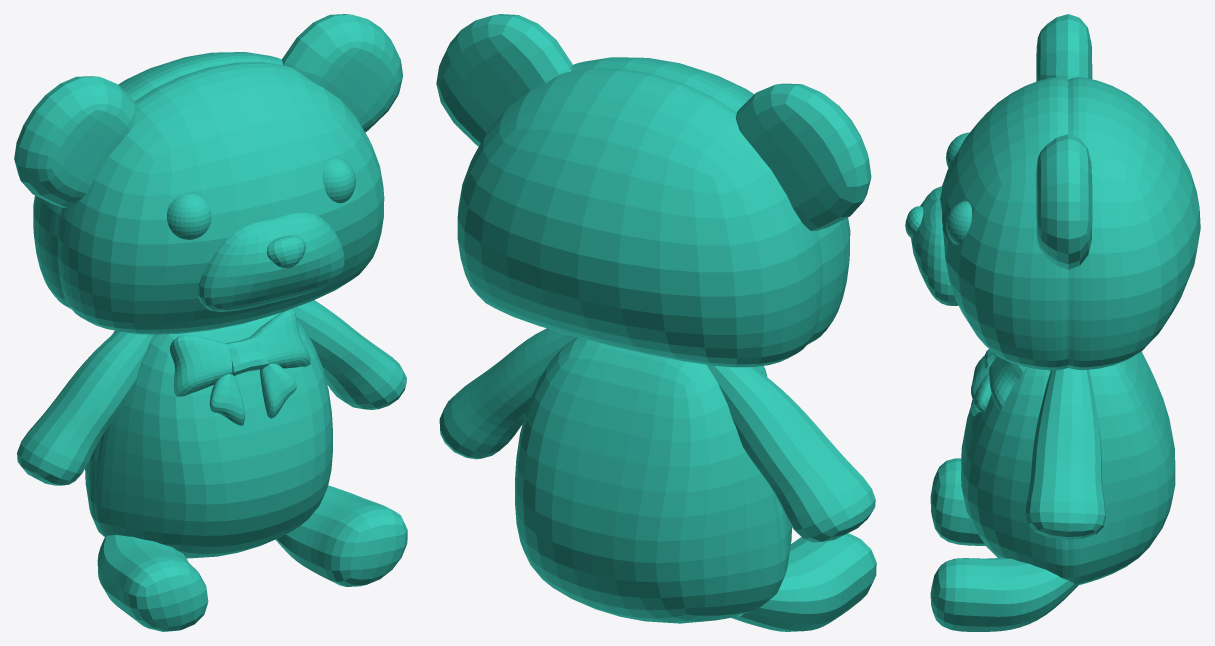
Rendered from Lvl1_teddy02 1.fbx.
3 renders of one model, left to right at view 1: azimuth 30°, elevation 25°; view 2: azimuth 150°, elevation 25°; view 3: azimuth 270°, elevation 25°, orthographic. The views are drawn at different scales.
Parts seen in each view (by area): view 1: teddy; view 2: teddy; view 3: teddy.
Boxes of the visible parts, x1=… form: teddy: x1=14, y1=14, x2=407, y2=631; teddy: x1=436, y1=14, x2=876, y2=631; teddy: x1=905, y1=14, x2=1200, y2=631.
Bounding box in the file's own units: 576 × 745 × 395.
